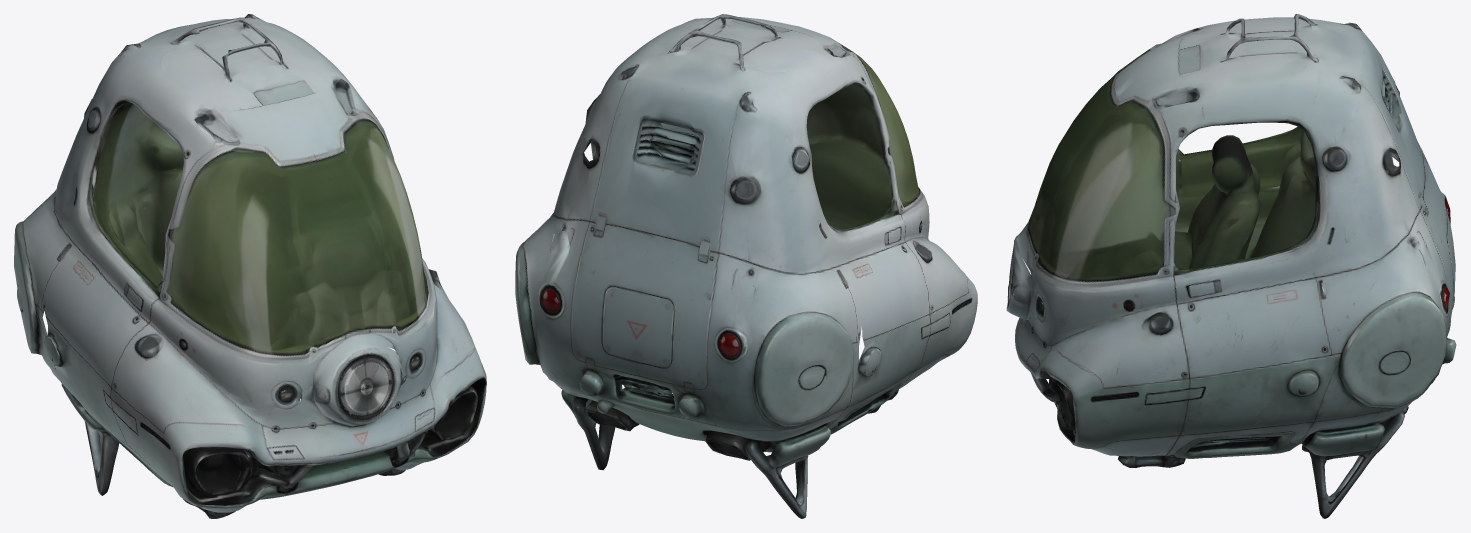
Rendered from futuristic vehicle 3d model.glb.
3 views of the same model, side by side, from view 1: azimuth 30°, elevation 25°; view 2: azimuth 150°, elevation 25°; view 3: azimuth 270°, elevation 25° (orthographic). The views are drawn at different scales.
Parts seen in each view (by area): view 1: tripo_node_7da562f5; view 2: tripo_node_7da562f5; view 3: tripo_node_7da562f5.
Part boxes in pixels (<box>): tripo_node_7da562f5: <box>14,14,486,518</box>; tripo_node_7da562f5: <box>515,14,977,518</box>; tripo_node_7da562f5: <box>1006,14,1456,518</box>.
Size of the model in its own units: 74.19 by 97.47 by 89.28.
Materials: 1 (1 with a texture image).
